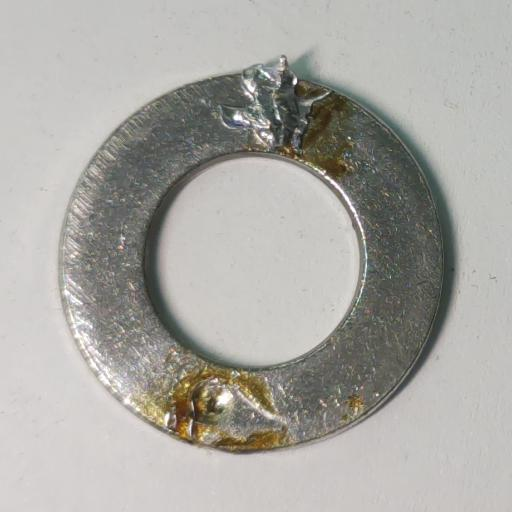excess_material: (219, 55, 332, 157), (166, 378, 233, 438)
